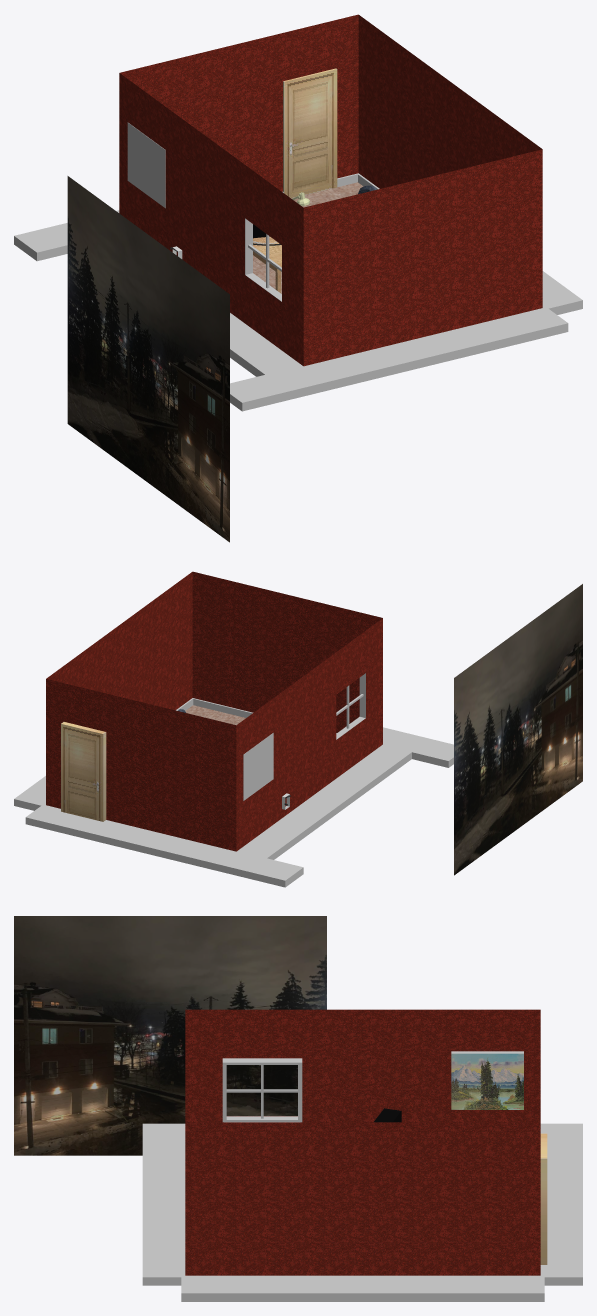
The picture shows the model from 3 angles, top to bottom: view 1: azimuth 30°, elevation 25°; view 2: azimuth 150°, elevation 25°; view 3: azimuth 270°, elevation 25°; orthographic projection. The views are drawn at different scales.
Parts seen in each view (by area): view 1: Rain, Plane.057, Plane.005, Plane.052, Plane.001, Basseboard.003, Door, Basseboard, Painting1, Basseboard.002, Basseboard.001, Carpet.009 (+2 smaller); view 2: Rain, Plane.052, Plane.057, Plane.005, Plane.001, Basseboard.002, Basseboard, Door, Basseboard.003, Painting1, Basseboard.001, Carpet.009 (+1 smaller); view 3: Rain, Plane.001, Plane.005, Basseboard.001, Basseboard.003, Basseboard.002, Painting1, Window, Door.
Part boxes in pixels (left/top/right/bottom): Rain: left=67, top=176, right=229, bottom=542; Plane.057: left=303, top=149, right=542, bottom=366; Plane.005: left=119, top=73, right=303, bottom=365; Plane.052: left=120, top=14, right=358, bottom=191; Plane.001: left=358, top=15, right=542, bottom=188; Basseboard.003: left=230, top=306, right=568, bottom=411; Door: left=283, top=68, right=337, bottom=198; Basseboard: left=230, top=313, right=301, bottom=376; Painting1: left=127, top=122, right=165, bottom=208; Basseboard.002: left=14, top=173, right=358, bottom=261; Basseboard.001: left=358, top=173, right=582, bottom=314; Carpet.009: left=253, top=182, right=363, bottom=293; Rain: left=454, top=584, right=582, bottom=875; Plane.052: left=46, top=679, right=236, bottom=851; Plane.057: left=192, top=571, right=382, bottom=732; Plane.005: left=236, top=618, right=382, bottom=851; Plane.001: left=46, top=572, right=192, bottom=710; Basseboard.002: left=25, top=804, right=303, bottom=887; Basseboard: left=233, top=745, right=411, bottom=859; Door: left=61, top=722, right=106, bottom=821; Basseboard.003: left=192, top=698, right=453, bottom=767; Painting1: left=243, top=733, right=273, bottom=800; Basseboard.001: left=14, top=698, right=193, bottom=810; Carpet.009: left=185, top=705, right=245, bottom=725; Rain: left=14, top=916, right=326, bottom=1155; Plane.001: left=185, top=1122, right=540, bottom=1275; Plane.005: left=185, top=1009, right=540, bottom=1122; Basseboard.001: left=181, top=1274, right=544, bottom=1301; Basseboard.003: left=142, top=1123, right=185, bottom=1285; Basseboard.002: left=539, top=1123, right=582, bottom=1285; Painting1: left=451, top=1051, right=523, bottom=1109; Window: left=222, top=1058, right=302, bottom=1122; Door: left=540, top=1133, right=547, bottom=1264.
Size of the model in its own units: 22.06 by 11.9 by 25.63.
20 materials, 12 textured.
